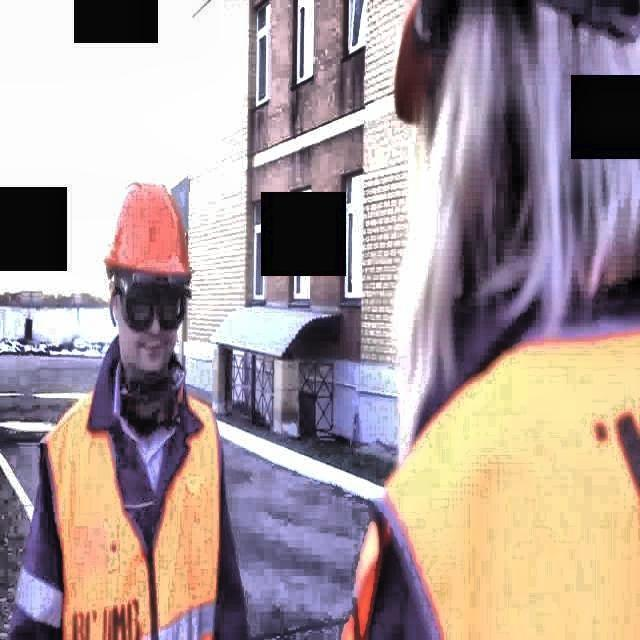safety_helmet: (106, 179, 188, 277)
safety_jacket: (336, 321, 640, 640), (44, 387, 216, 640)
